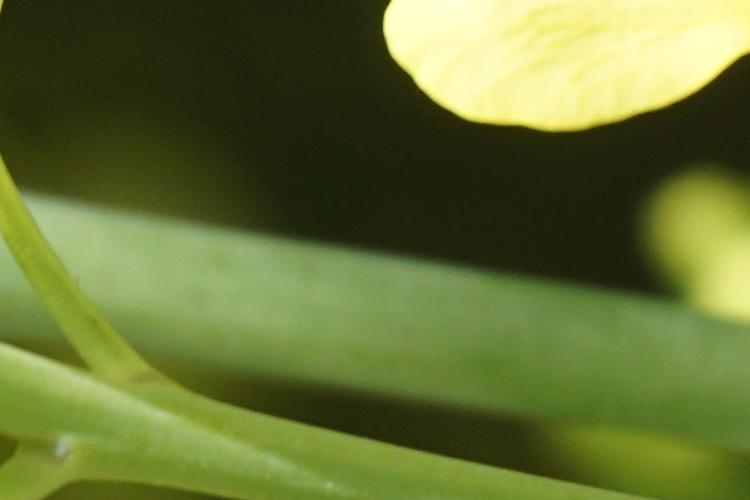yellow: (388, 10, 725, 125)
